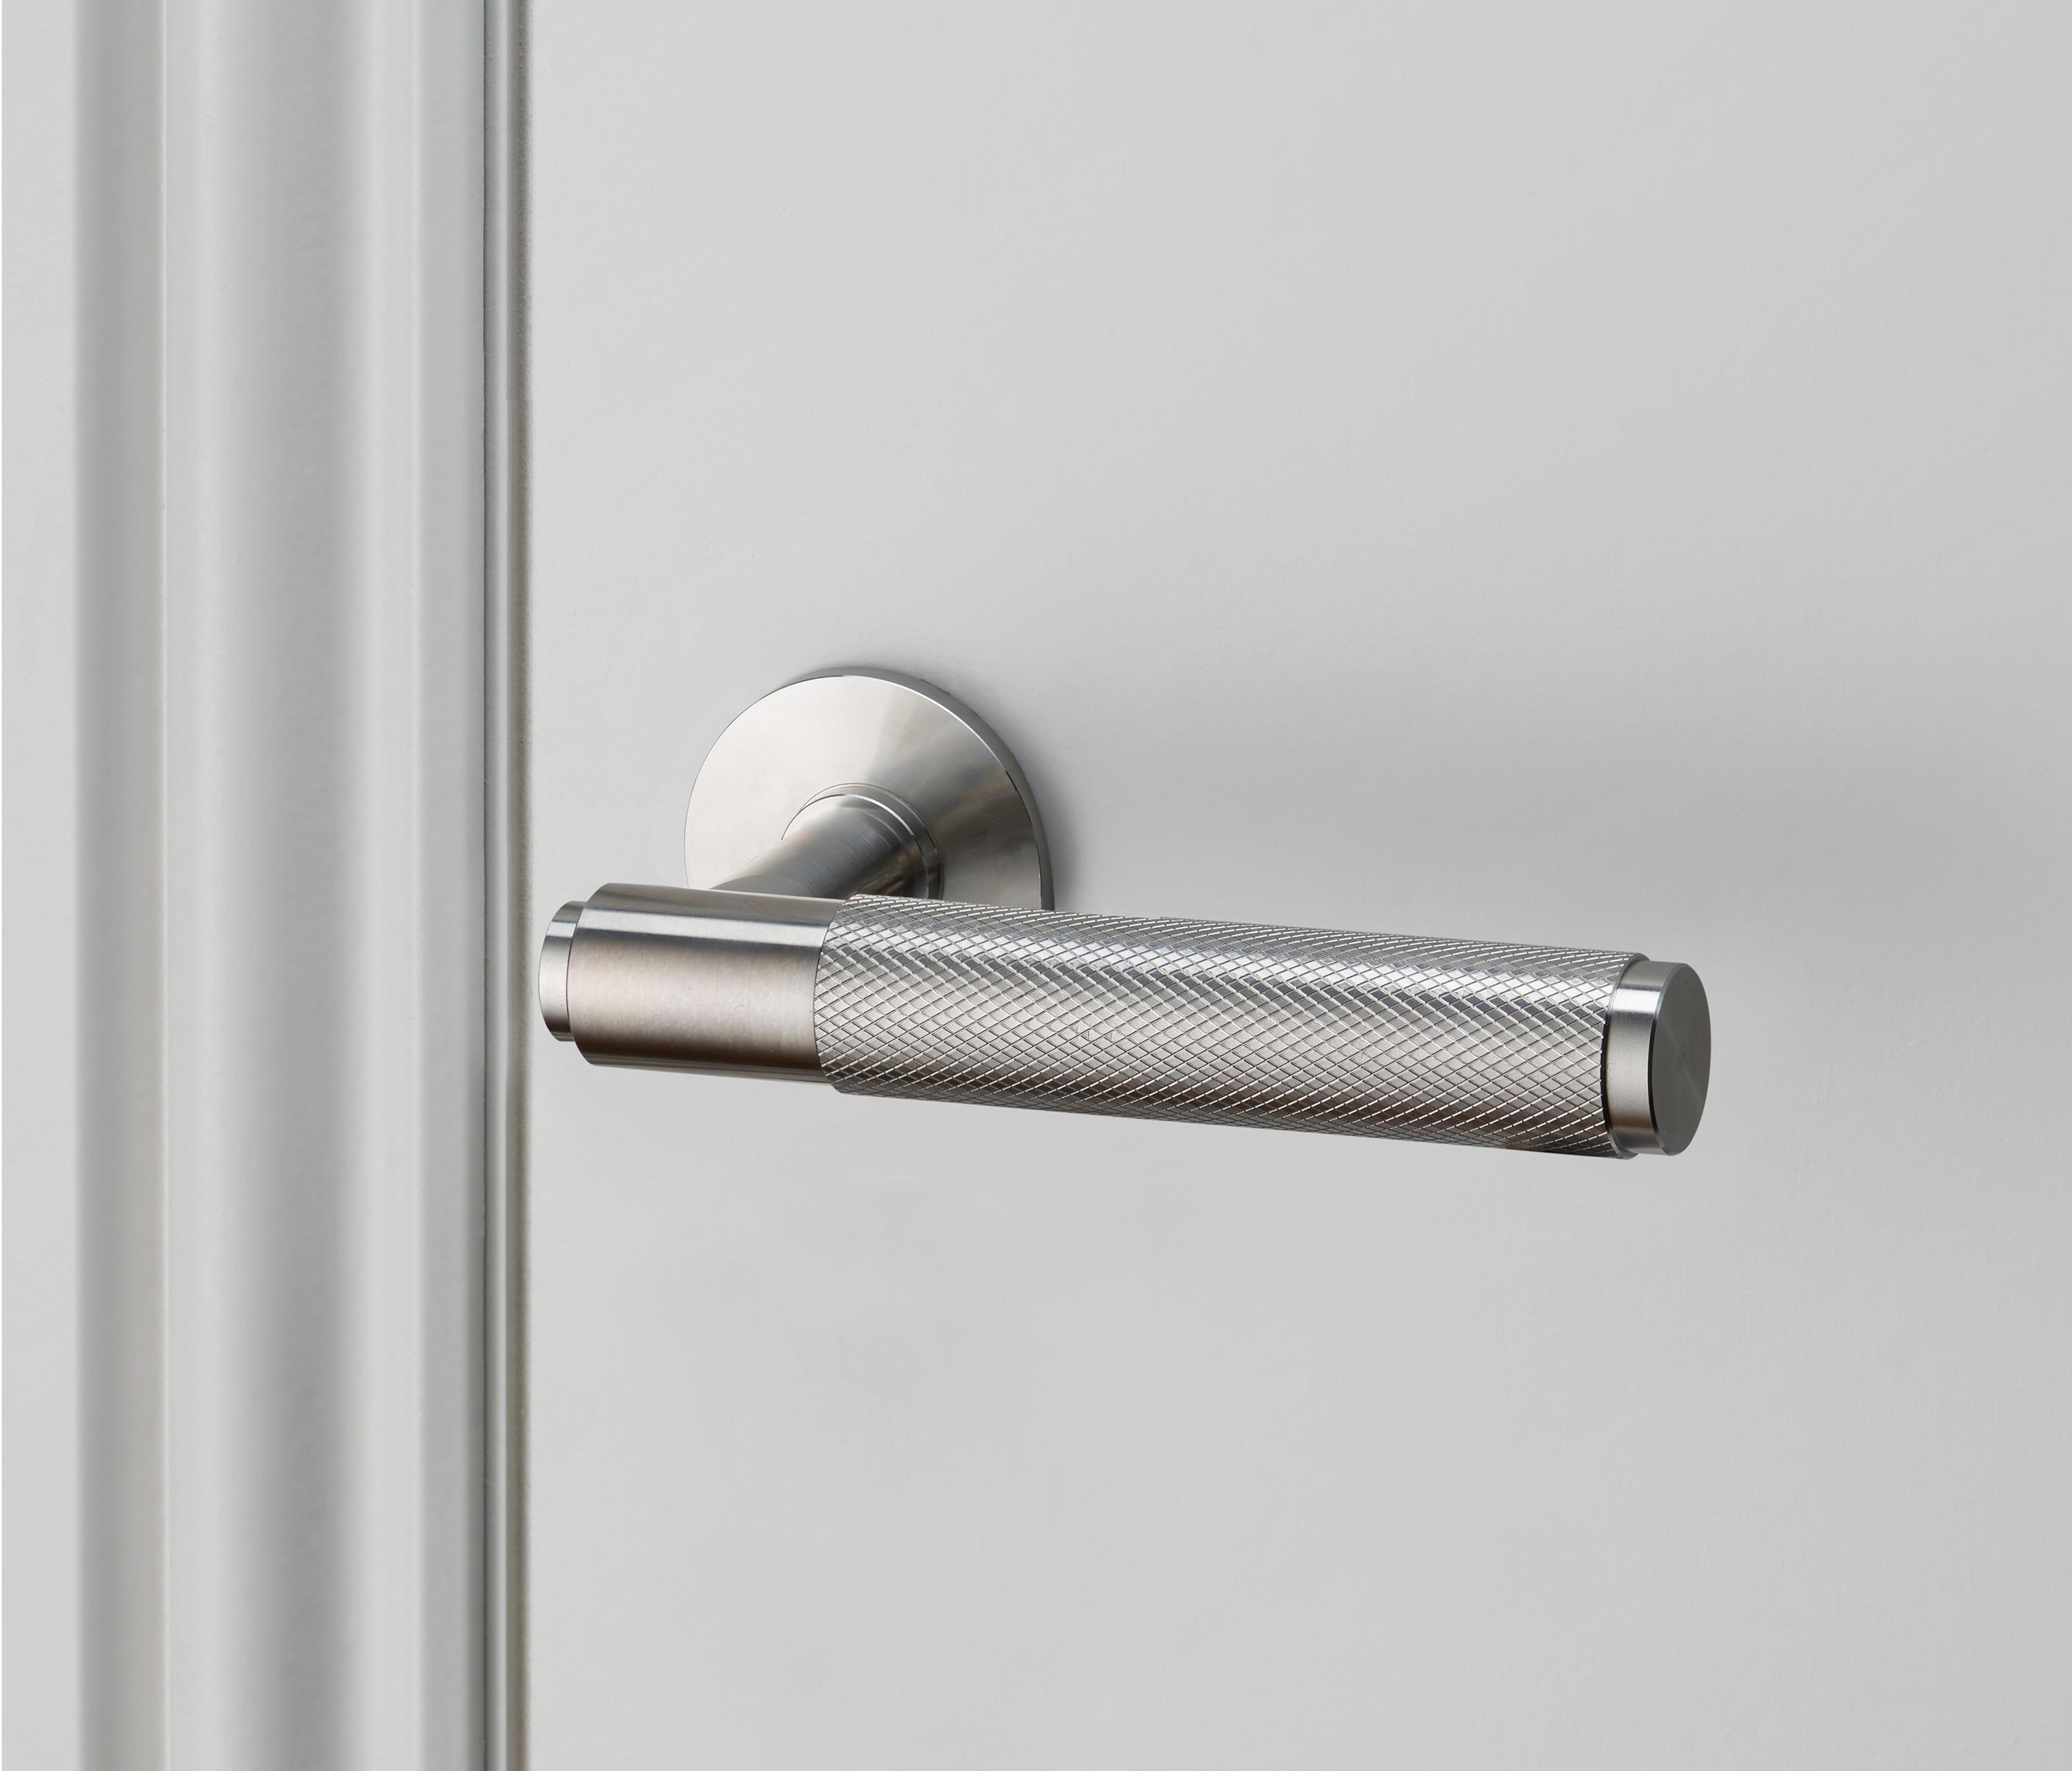doorhandle: (482, 778, 1784, 1249)
